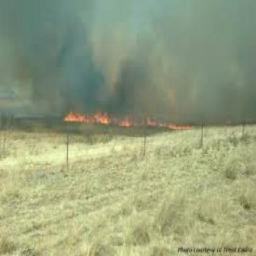Heavy smoke: (3, 0, 256, 107)
Medium fire: (62, 107, 201, 130)
